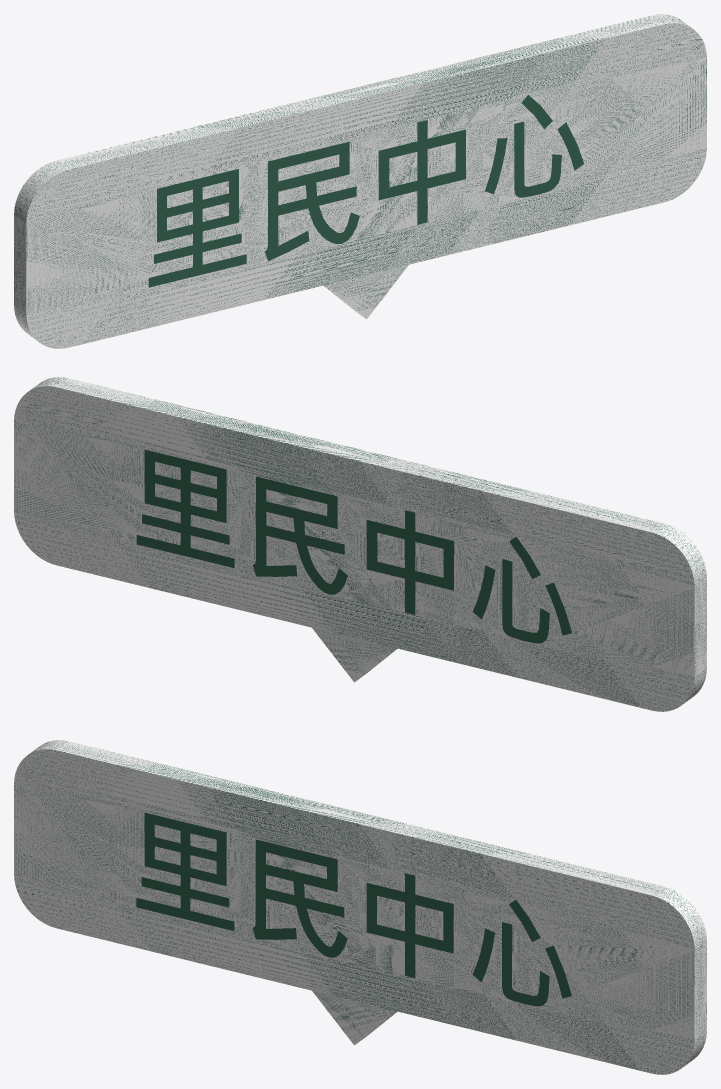
File: titleCCtw.dae
The picture shows the model from 3 angles, top to bottom: view 1: azimuth 30°, elevation 25°; view 2: azimuth 150°, elevation 25°; view 3: azimuth 330°, elevation 25°; orthographic projection.
Visible parts, largest first — view 1: 差異 (×4), instance_0 (×6); view 2: 差異 (×4), instance_1 (×6); view 3: 差異 (×4), instance_0 (×6).
Part boxes in pixels (x1,y1,x2,y2): 差異 (×4): (14, 14, 706, 348); instance_0 (×6): (148, 120, 584, 287); 差異 (×4): (14, 377, 706, 711); instance_1 (×6): (136, 449, 571, 643); 差異 (×4): (14, 740, 706, 1074); instance_0 (×6): (136, 812, 571, 1006).
Bounding box in the file's own units: 630 × 19.69 × 197.
